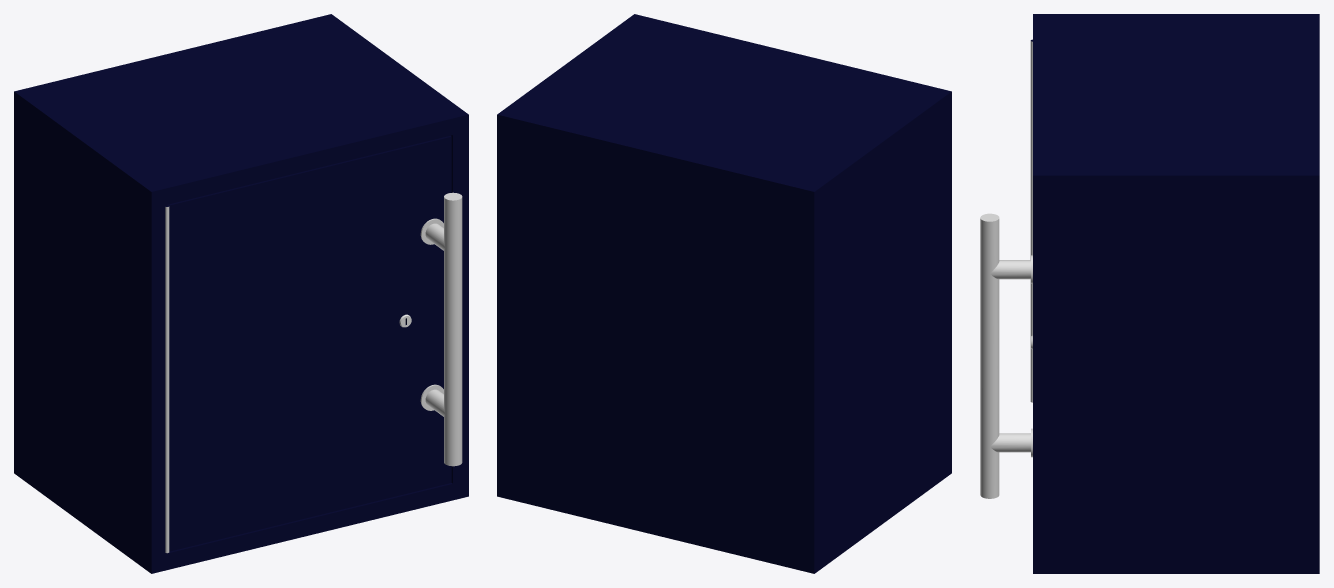
Rendered from rightWallMount20Lux.glb.
3 views of the same model, side by side, from view 1: azimuth 30°, elevation 25°; view 2: azimuth 150°, elevation 25°; view 3: azimuth 270°, elevation 25° (orthographic). The views are drawn at different scales.
Visible parts, largest first — view 1: upperShell, doors, handles, hinge; view 2: upperShell; view 3: upperShell, handles, hinge.
Part boxes in pixels (x1,y1,x2,y2): upperShell: [14, 14, 468, 573]; doors: [165, 135, 451, 551]; handles: [420, 192, 462, 466]; hinge: [165, 206, 169, 553]; upperShell: [497, 14, 951, 573]; upperShell: [1033, 14, 1319, 573]; handles: [980, 213, 1032, 498]; hinge: [1030, 41, 1032, 402].
Size of the model in its own units: 0.508 by 0.5842 by 0.4508.
